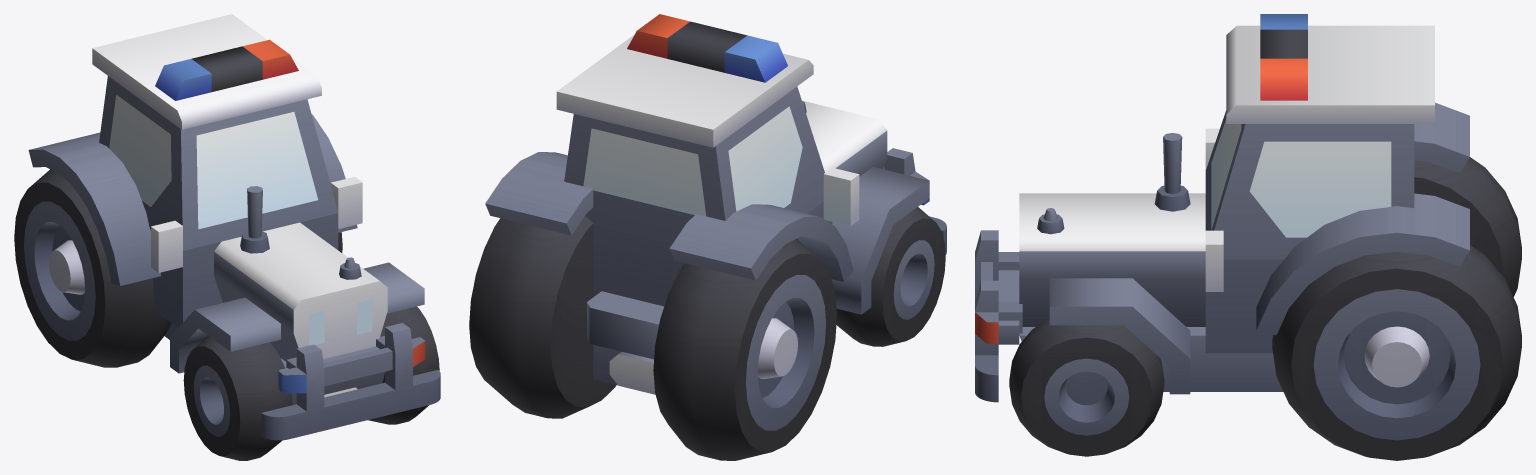
3 views of the same model, side by side, from view 1: azimuth 30°, elevation 25°; view 2: azimuth 150°, elevation 25°; view 3: azimuth 270°, elevation 25° (orthographic). The views are drawn at different scales.
Parts seen in each view (by area): view 1: body, wheel-back-right, grill, wheel-front-right, wheel-front-left; view 2: body, wheel-back-right, wheel-back-left, wheel-front-right, grill; view 3: body, wheel-back-left, wheel-front-left, wheel-back-right, grill.
Boxes of the visible parts, x1,y1,x2,y2 form: body: (28,14,424,404); wheel-back-right: (14,169,171,367); grill: (261,323,440,440); wheel-front-right: (183,336,292,460); wheel-front-left: (368,306,439,424); body: (485,14,929,394); wheel-back-right: (653,239,836,460); wheel-back-left: (469,216,616,418); wheel-front-right: (836,207,945,346); grill: (883,148,946,254); body: (998,14,1469,394); wheel-back-left: (1272,245,1521,460); wheel-front-left: (1009,318,1164,456); wheel-back-right: (1414,157,1521,296); grill: (975,230,1022,402).
Bounding box in the file's own units: 1.34 × 1.7 × 2.3.
Materials: 1 (1 with a texture image).
